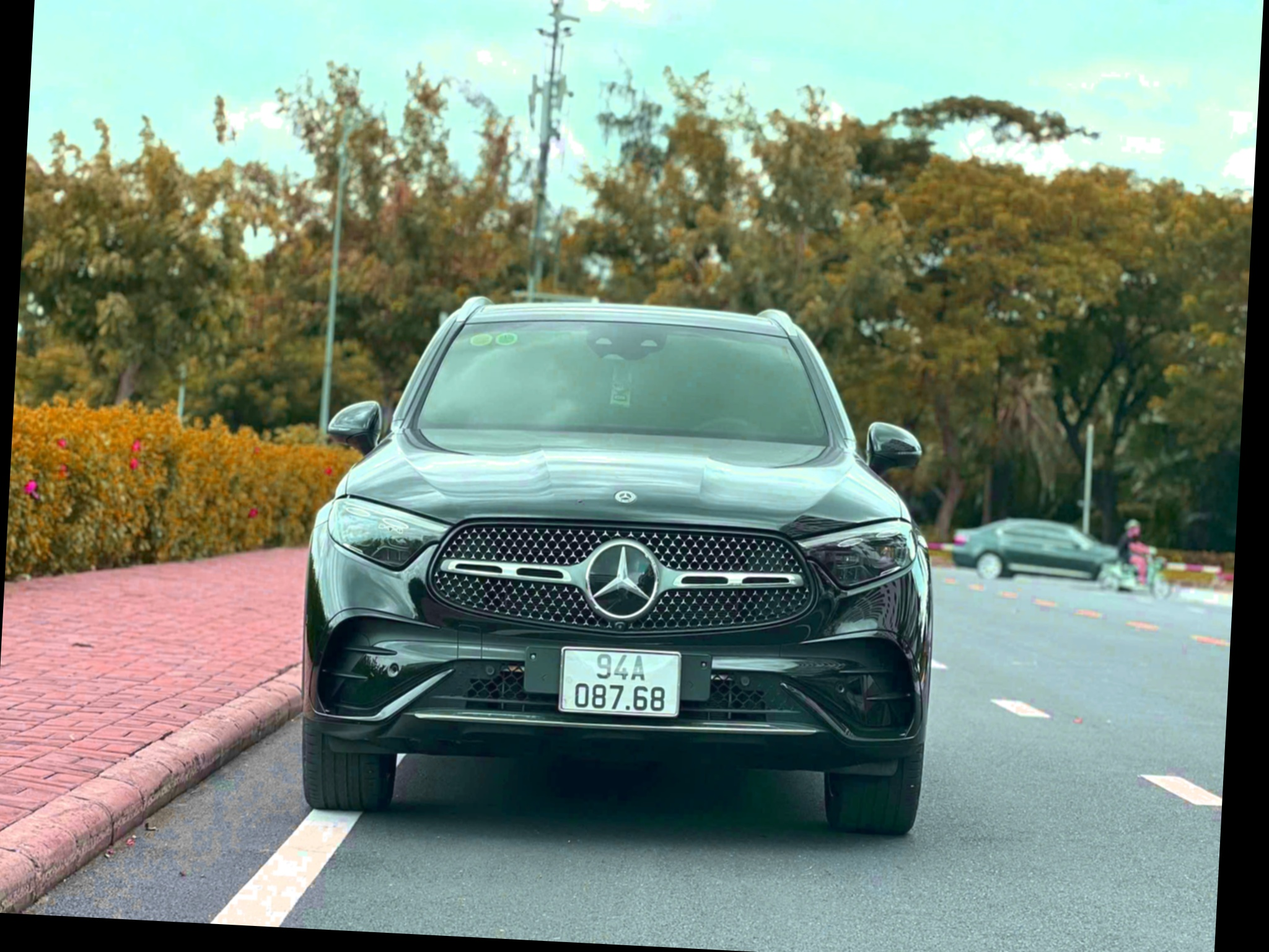Bien-so: (590, 666, 717, 738)
